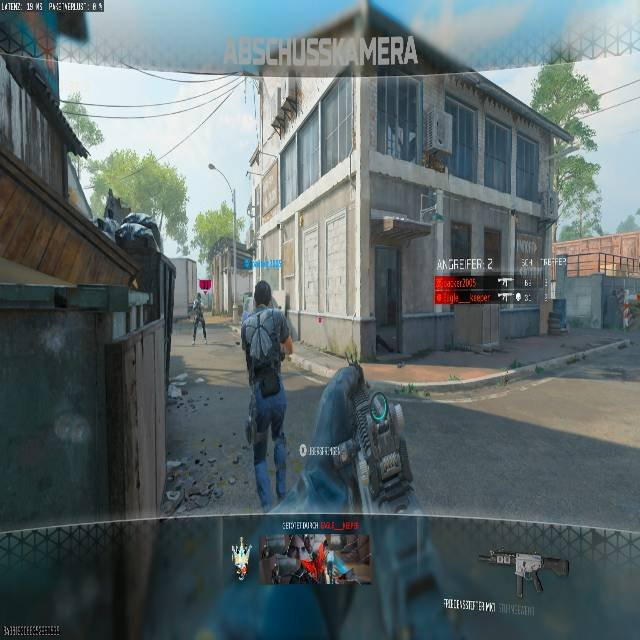head: (254, 279, 273, 306)
player: (239, 279, 293, 502), (188, 292, 208, 344), (623, 298, 638, 329)
